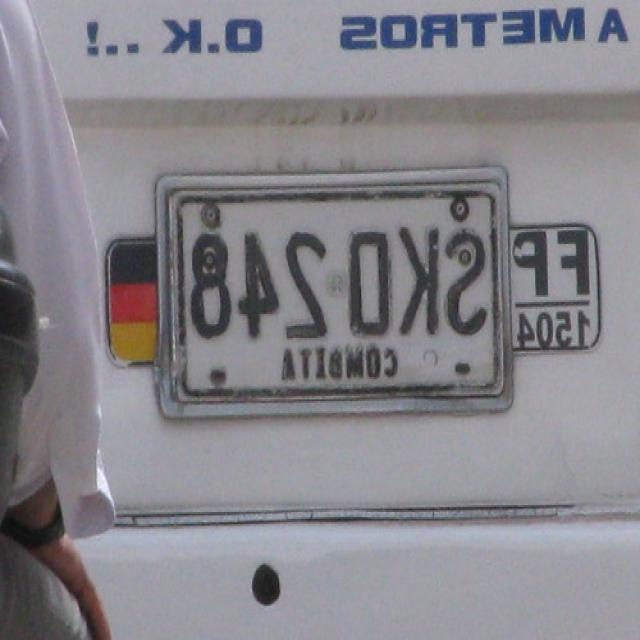placas: (180, 217, 489, 358)
